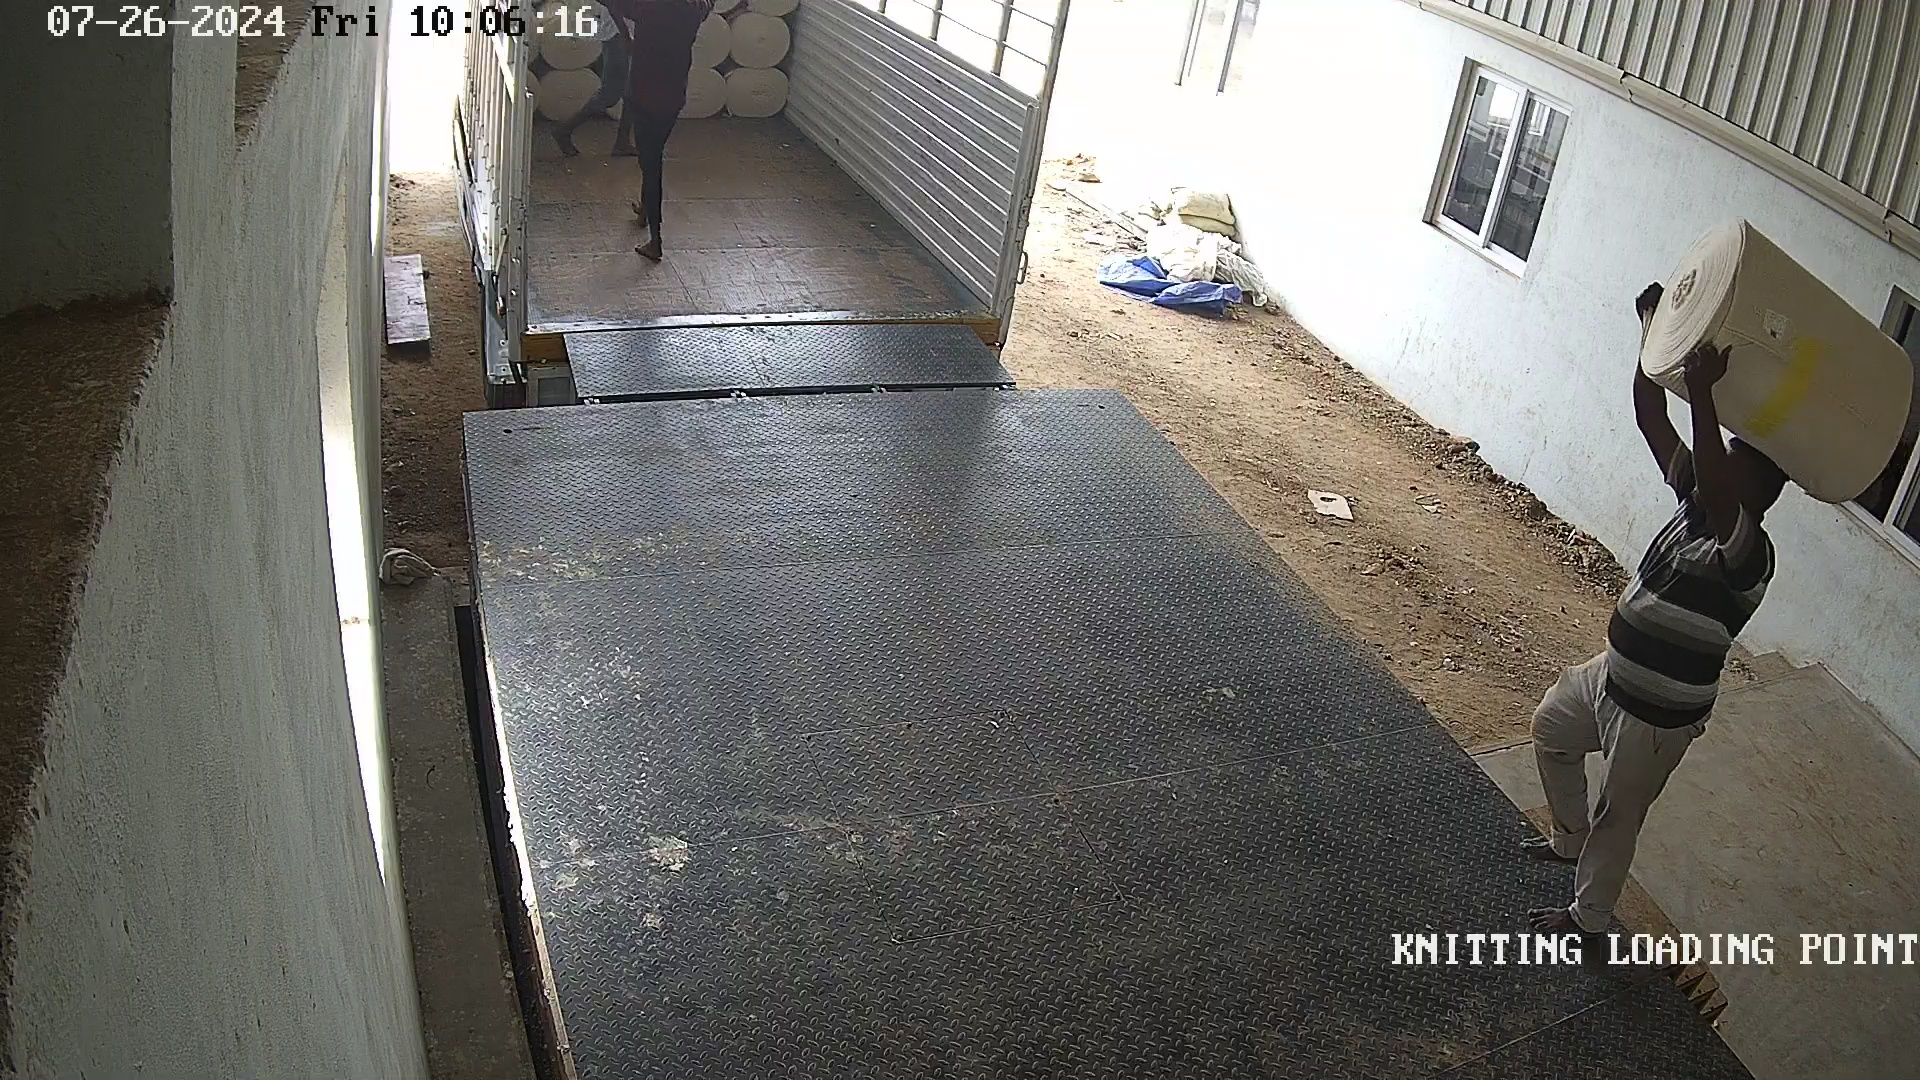bag: (1635, 207, 1912, 505)
